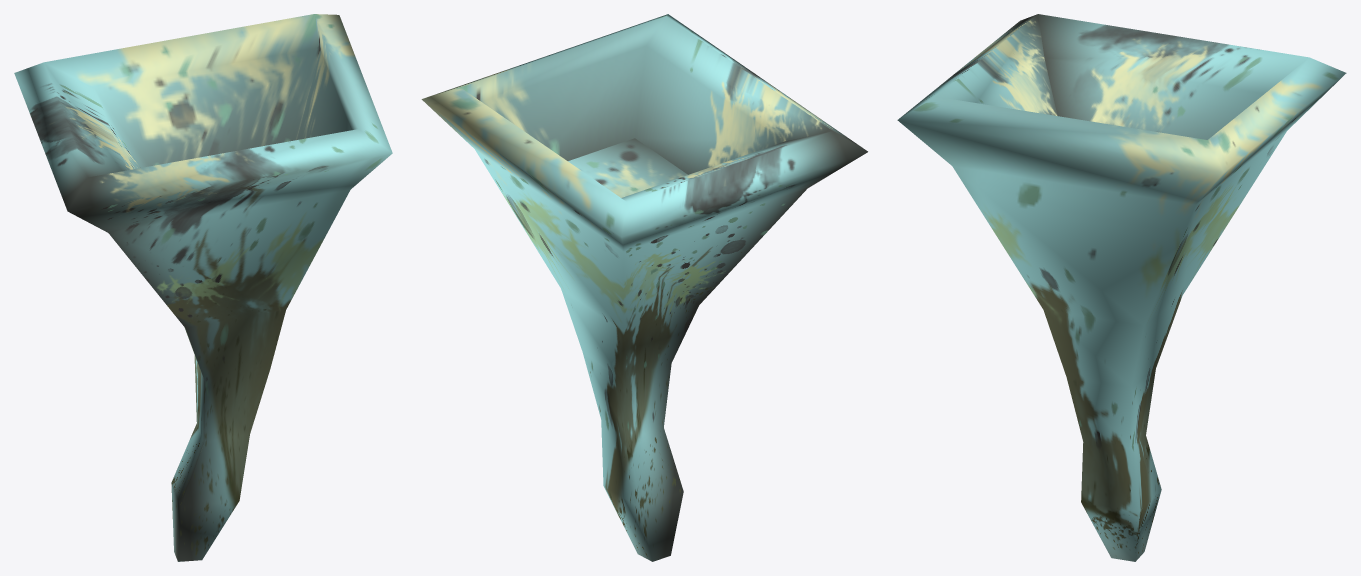
The model's file is Plant_Green.fbx.
3 renders of one model, left to right at view 1: azimuth 30°, elevation 25°; view 2: azimuth 150°, elevation 25°; view 3: azimuth 270°, elevation 25°, orthographic. The views are drawn at different scales.
Parts seen in each view (by area): view 1: Plant_Cornu.001; view 2: Plant_Cornu.001; view 3: Plant_Cornu.001.
Boxes of the visible parts, left/top/right/bottom form: Plant_Cornu.001: left=14, top=14, right=392, bottom=561; Plant_Cornu.001: left=421, top=14, right=867, bottom=561; Plant_Cornu.001: left=897, top=14, right=1346, bottom=561.
Bounding box in the file's own units: 1.62 × 1.99 × 1.62.
